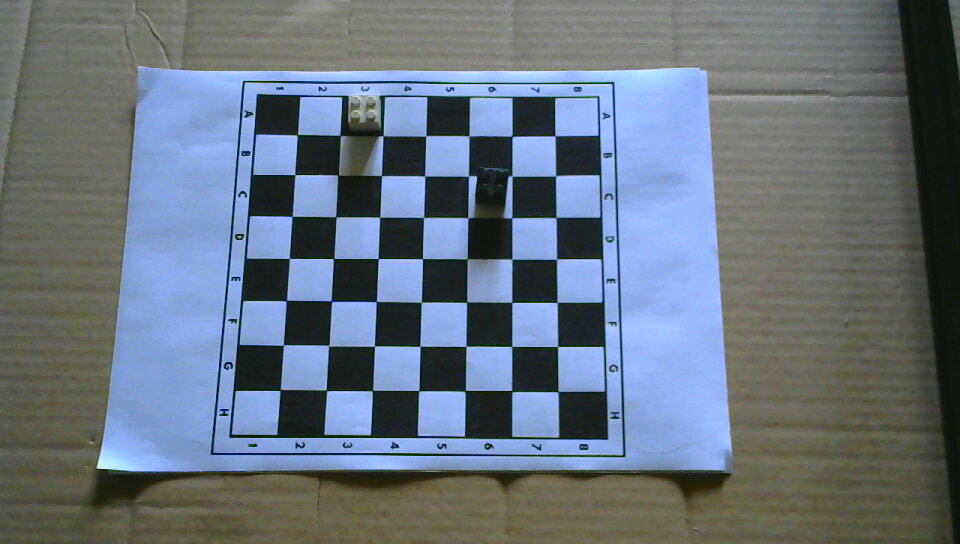bp: (474, 165, 510, 207)
wp: (347, 93, 383, 130)
